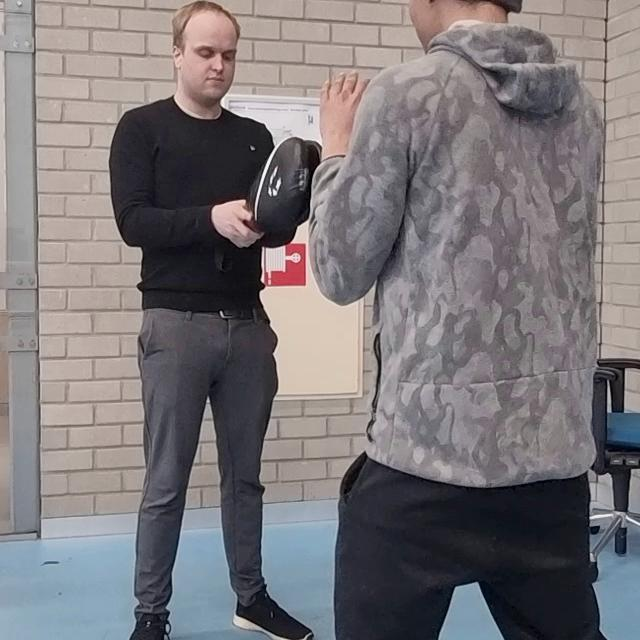paddle: (246, 136, 327, 231)
